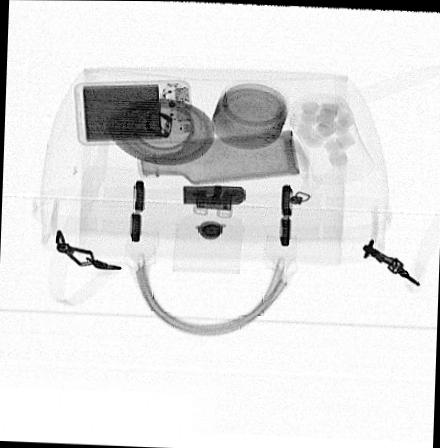Powerbank: (70, 77, 194, 146)
